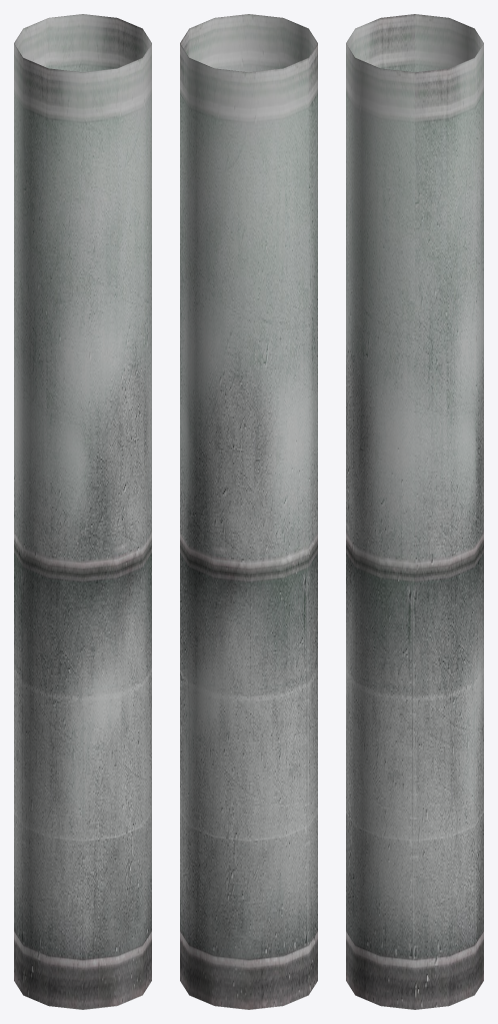
File: bigPipe_1.obj
3 renders of one model, left to right at view 1: azimuth 30°, elevation 25°; view 2: azimuth 150°, elevation 25°; view 3: azimuth 270°, elevation 25°, orthographic.
Parts seen in each view (by area): view 1: bigPipe_1; view 2: bigPipe_1; view 3: bigPipe_1.
Part boxes in pixels (left/top/right/bottom): bigPipe_1: left=14, top=14, right=151, bottom=1009; bigPipe_1: left=180, top=14, right=317, bottom=1009; bigPipe_1: left=346, top=14, right=483, bottom=1009.
Bounding box in the file's own units: 0.4 × 3 × 0.4.
Materials: 1 (1 with a texture image).
